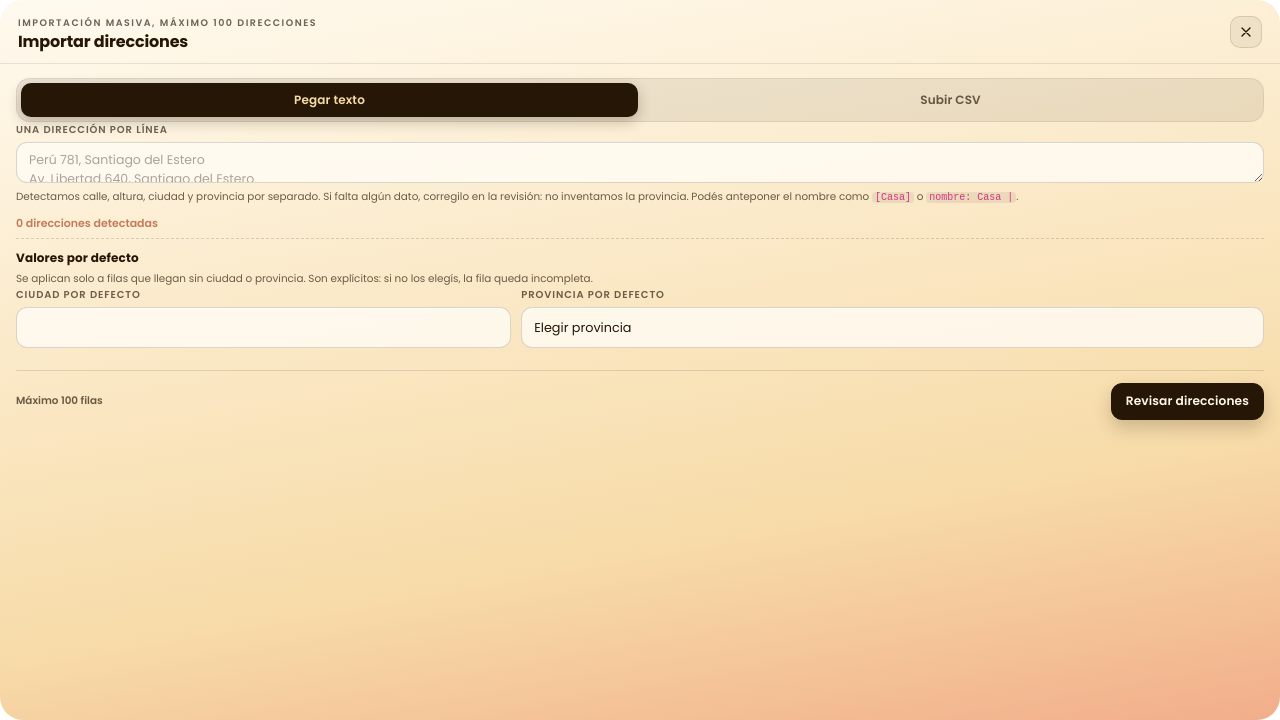
Test: Importador — entrada de texto › no inventa ciudad ni provincia y permite completarlas con los defaults
Replace the text in the text box labelled "Una dirección por línea" with "Perú 781" at (640, 163), box [16, 142, 1264, 183]
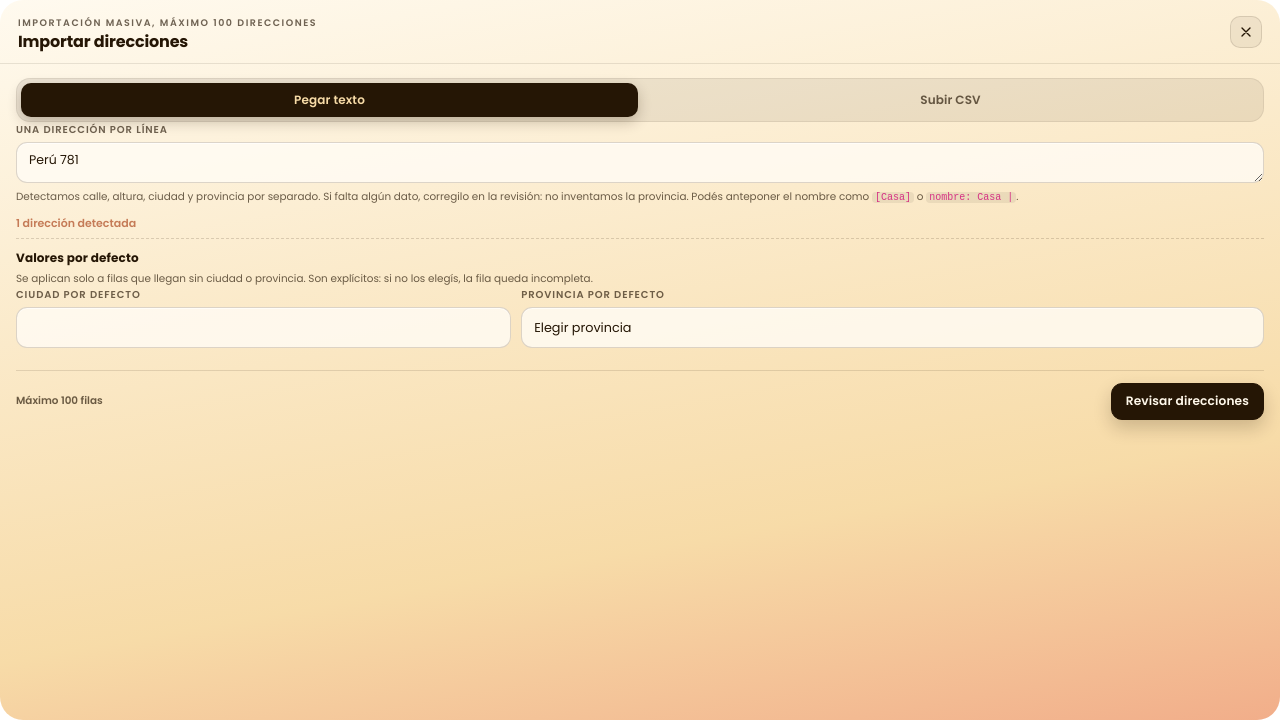
Click the button "Revisar direcciones" at (1187, 401), box [1111, 383, 1264, 420]
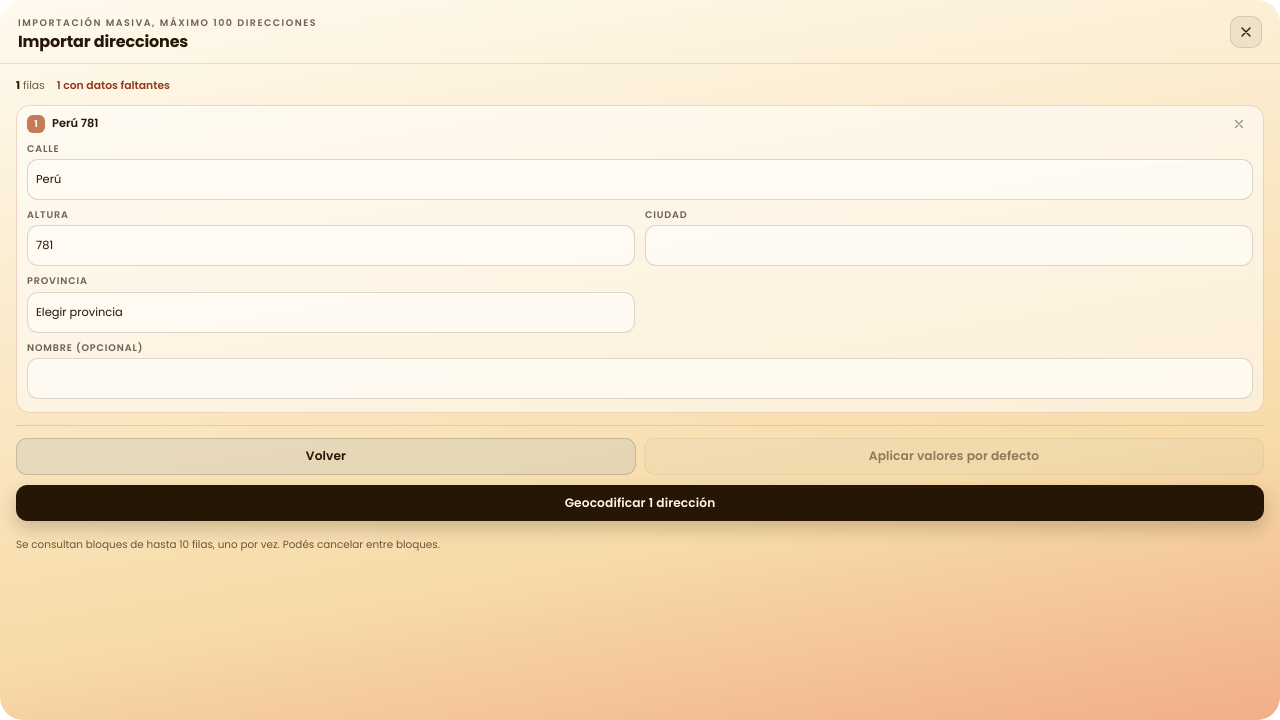
Result: the button "Geocodificar 1 dirección" is shown at [16, 485, 1264, 521]
Result: the field labelled "Ciudad" is empty at [645, 225, 1253, 266]
Result: the dropdown labelled "Provincia" shows "Elegir provincia" at [27, 292, 635, 333]
Click the button "Volver" at (326, 456), box [16, 438, 636, 475]
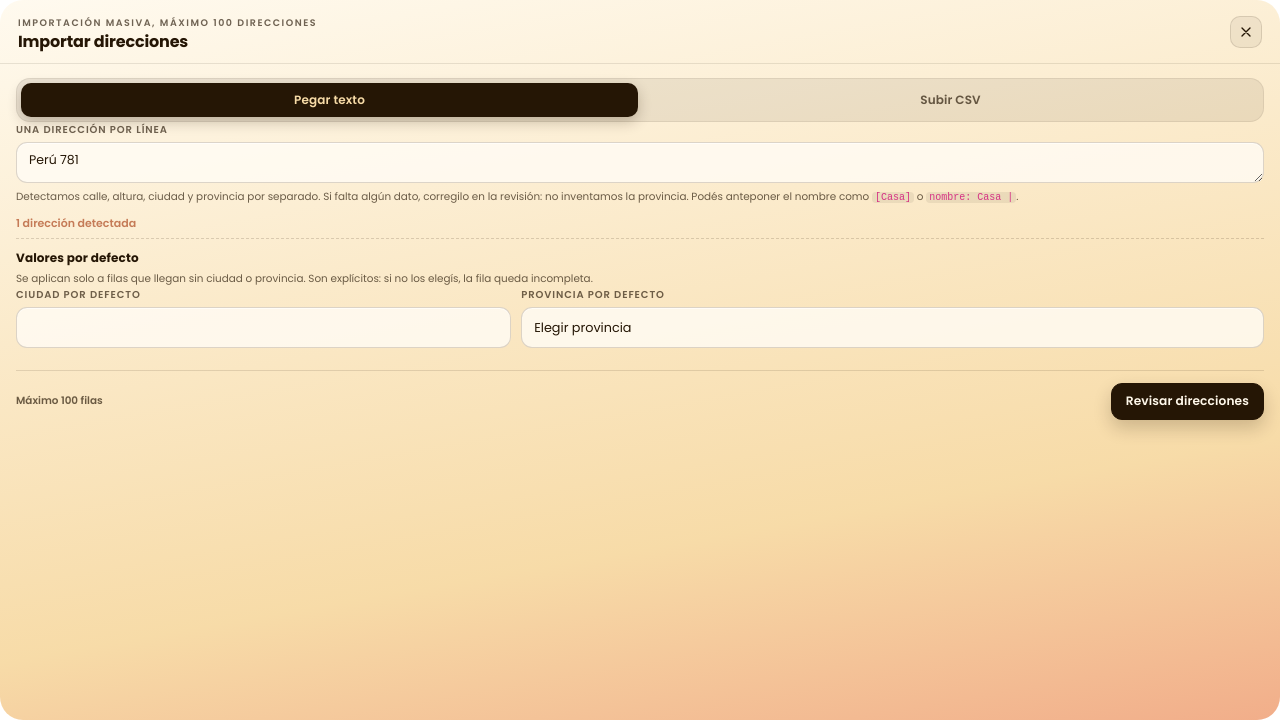
Type "Santiago del Estero" into the field labelled "Ciudad por defecto" at (264, 327), box [16, 307, 511, 348]
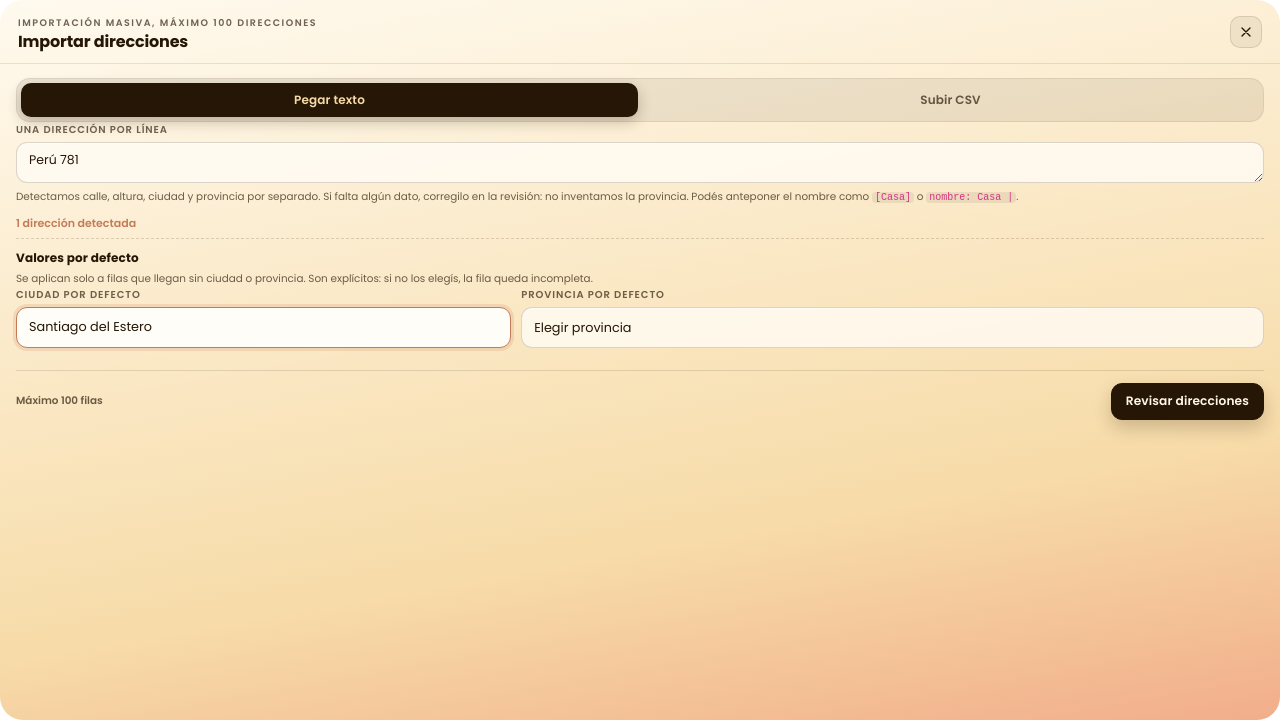
Select "Santiago del Estero" in the dropdown labelled "Provincia por defecto" at (893, 327), box [521, 307, 1264, 348]
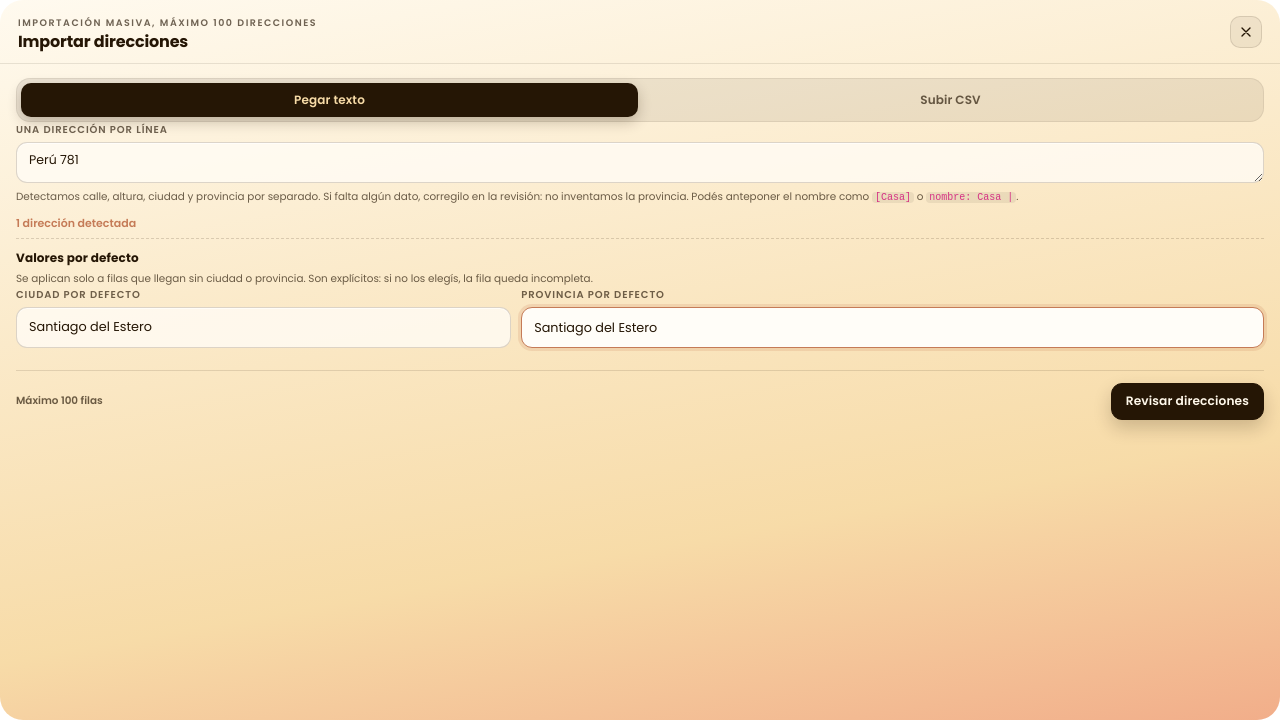
Click the button "Revisar direcciones" at (1187, 401), box [1111, 383, 1264, 420]
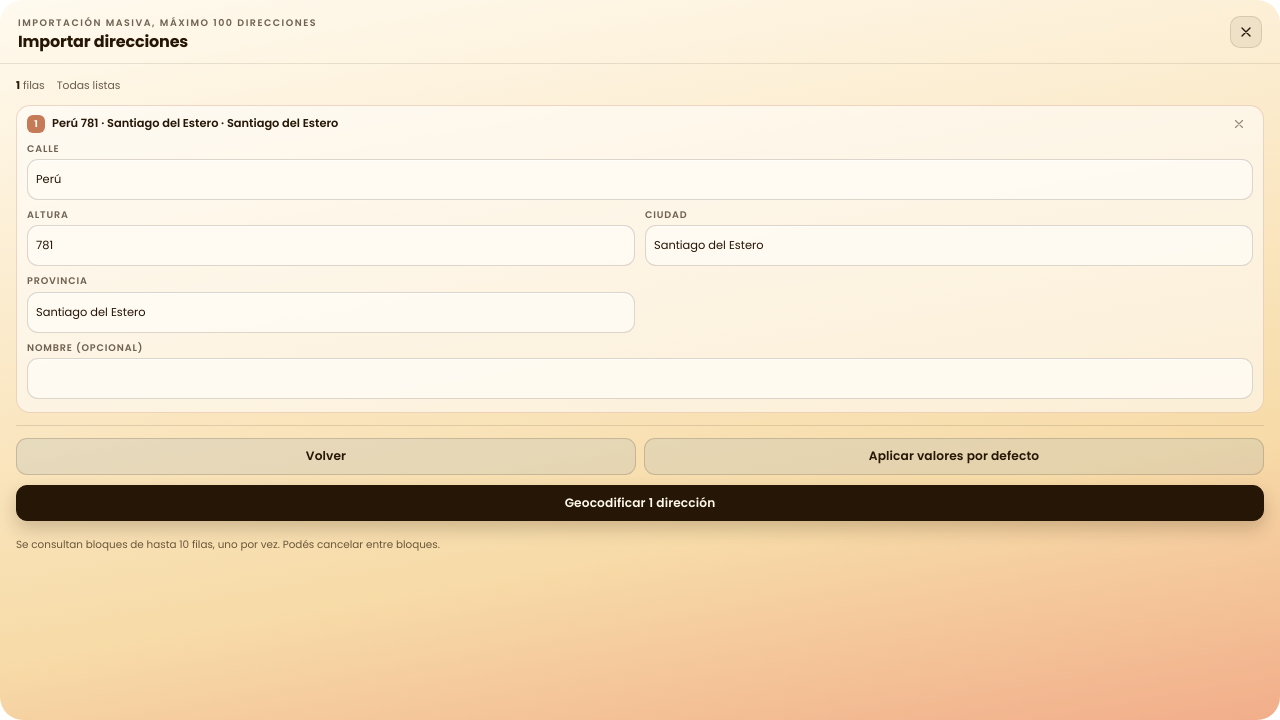
Result: the button "Geocodificar 1 dirección" is shown at [16, 485, 1264, 521]
Result: the field labelled "Ciudad" holds "Santiago del Estero" at [645, 225, 1253, 266]
Result: the dropdown labelled "Provincia" shows "Santiago del Estero" at [27, 292, 635, 333]
